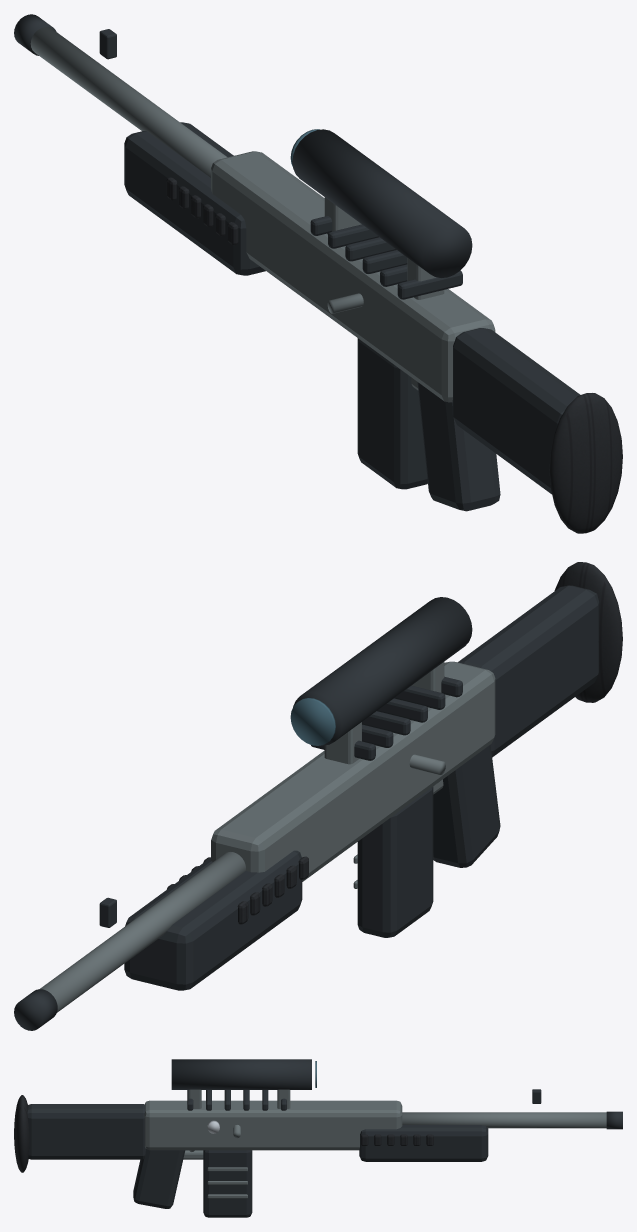
The model's file is mc_sniper.glb.
The picture shows the model from 3 angles, top to bottom: view 1: azimuth 30°, elevation 25°; view 2: azimuth 150°, elevation 25°; view 3: azimuth 270°, elevation 25°; orthographic projection. The views are drawn at different scales.
Visible parts, largest first — view 1: mc_sniper__Geometry; view 2: mc_sniper__Geometry; view 3: mc_sniper__Geometry.
Part boxes in pixels (x1,y1,x2,y2): mc_sniper__Geometry: [14, 14, 622, 533]; mc_sniper__Geometry: [14, 562, 622, 1030]; mc_sniper__Geometry: [14, 1059, 622, 1217].
Bounding box in the file's own units: 0.143 × 0.364 × 1.3.
Materials: 5 (1 with a texture image).
